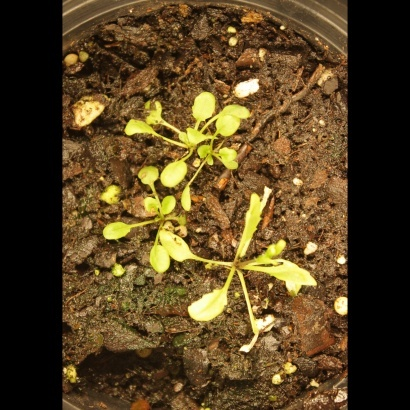leaf: (244, 261, 320, 291), (234, 190, 264, 249), (187, 288, 231, 326), (250, 233, 293, 265), (154, 228, 194, 262), (147, 241, 178, 278), (191, 87, 218, 126), (160, 155, 190, 190), (99, 218, 137, 245), (119, 115, 155, 140), (141, 99, 169, 128), (221, 97, 254, 121), (181, 183, 204, 215), (133, 164, 160, 190), (215, 116, 243, 139), (139, 195, 164, 220), (161, 196, 184, 219), (185, 125, 208, 148), (218, 142, 241, 165), (219, 161, 242, 184), (196, 145, 219, 168)
